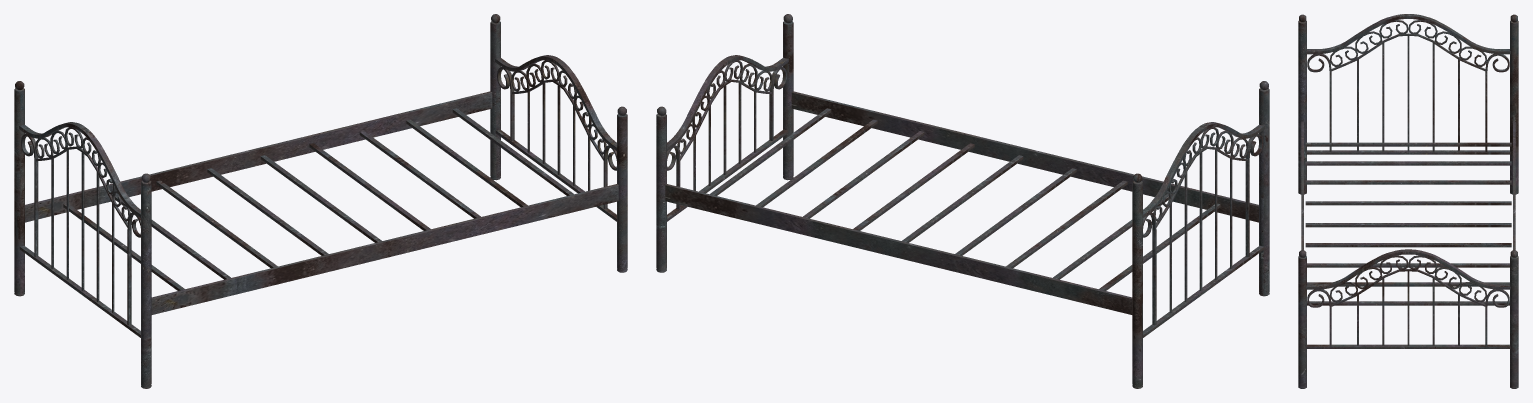
Rendered from SM_BedSingleB.FBX.
3 views of the same model, side by side, from view 1: azimuth 30°, elevation 25°; view 2: azimuth 150°, elevation 25°; view 3: azimuth 270°, elevation 25° (orthographic). The views are drawn at different scales.
Visible parts, largest first — view 1: SM_BedSingleB_LOD0; view 2: SM_BedSingleB_LOD0; view 3: SM_BedSingleB_LOD0.
Boxes of the visible parts, x1,y1,x2,y2 form: SM_BedSingleB_LOD0: (14,14,627,388); SM_BedSingleB_LOD0: (656,14,1269,388); SM_BedSingleB_LOD0: (1298,14,1518,388).
Size of what is drawn, in the model's own units: 206 by 86.55 by 96.9.
